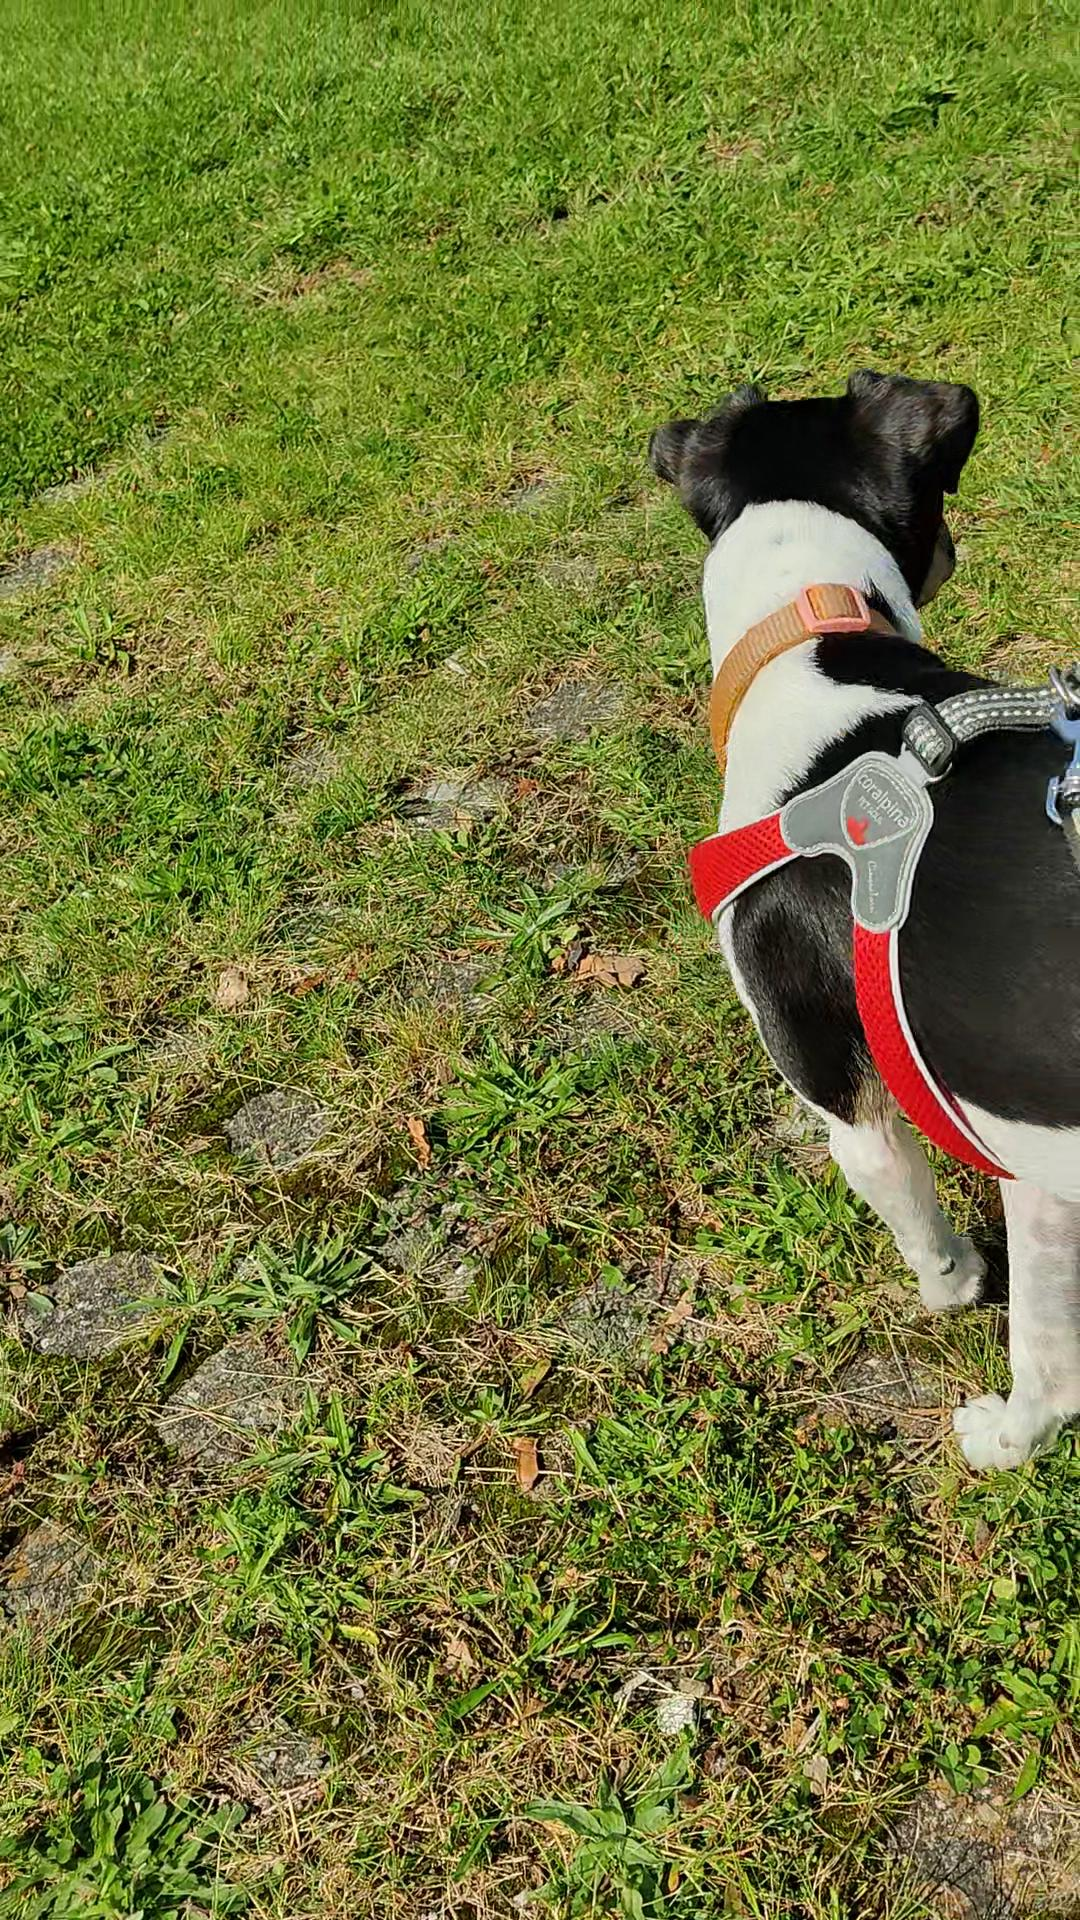Dog: (609, 328, 1079, 1513)
